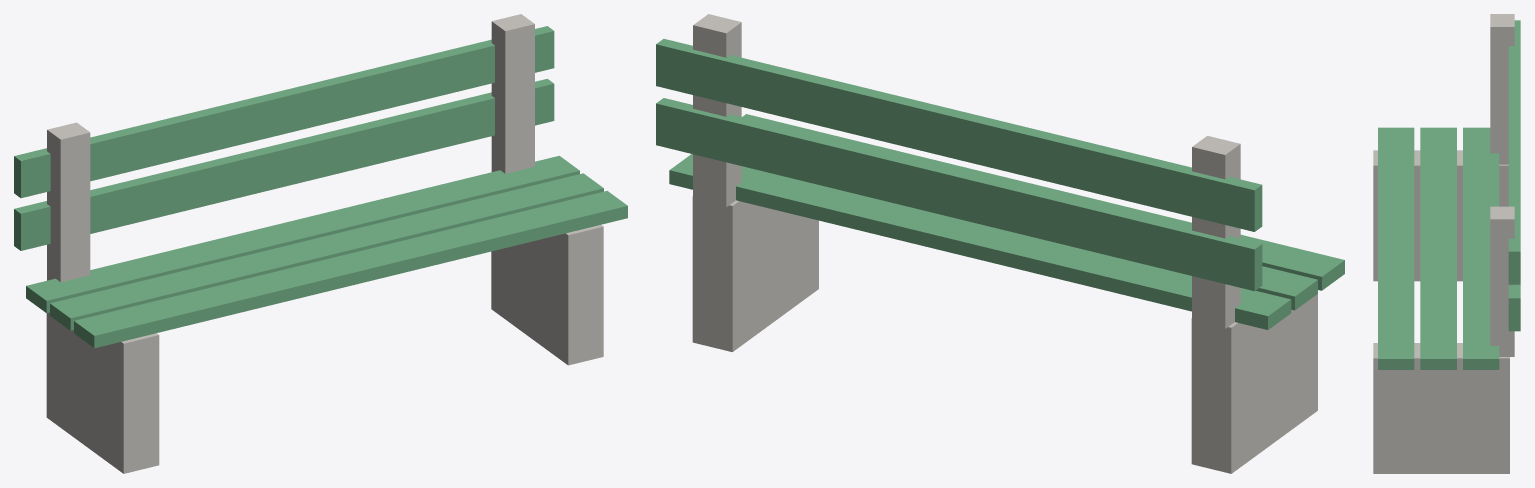
File: bench.glb
3 renders of one model, left to right at view 1: azimuth 30°, elevation 25°; view 2: azimuth 150°, elevation 25°; view 3: azimuth 270°, elevation 25°, orthographic. The views are drawn at different scales.
Visible parts, largest first — view 1: Bench; view 2: Bench; view 3: Bench.
Part boxes in pixels (x1,y1,x2,y2): Bench: [14, 14, 627, 473]; Bench: [656, 14, 1344, 473]; Bench: [1373, 14, 1520, 473].
Bounding box in the file's own units: 1.8 × 0.92 × 0.485.
